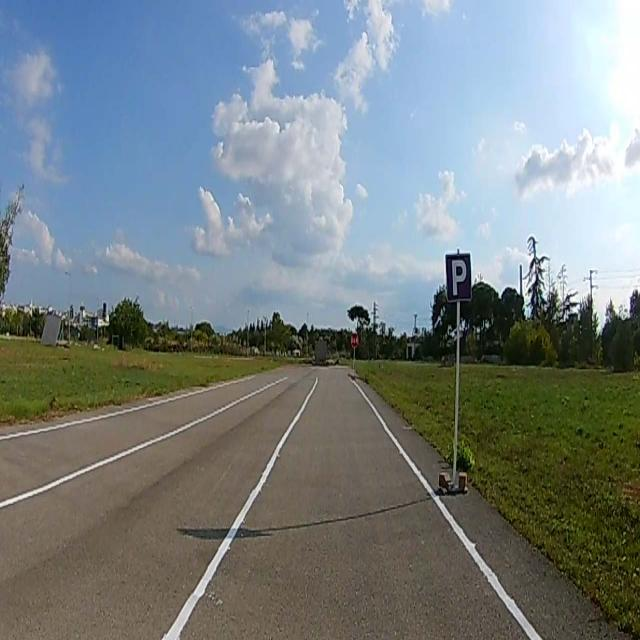park: (446, 254, 472, 300)
